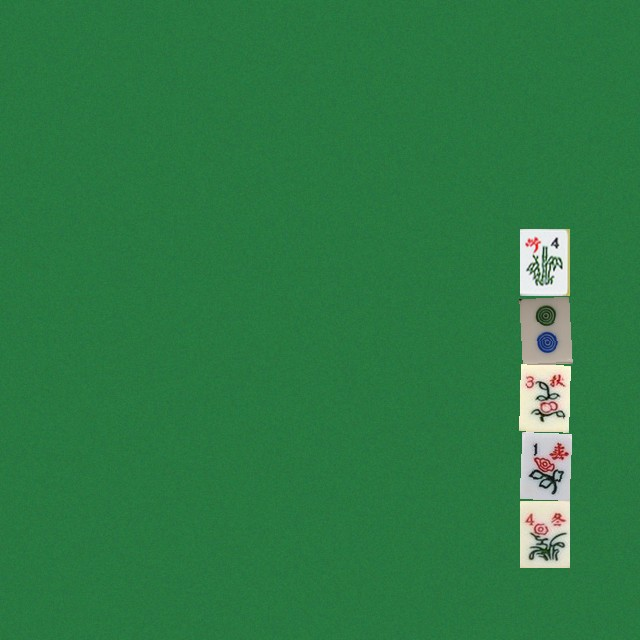tile: (519, 228, 569, 295), (519, 296, 569, 363), (519, 364, 569, 431), (519, 432, 569, 499), (519, 500, 569, 567)
